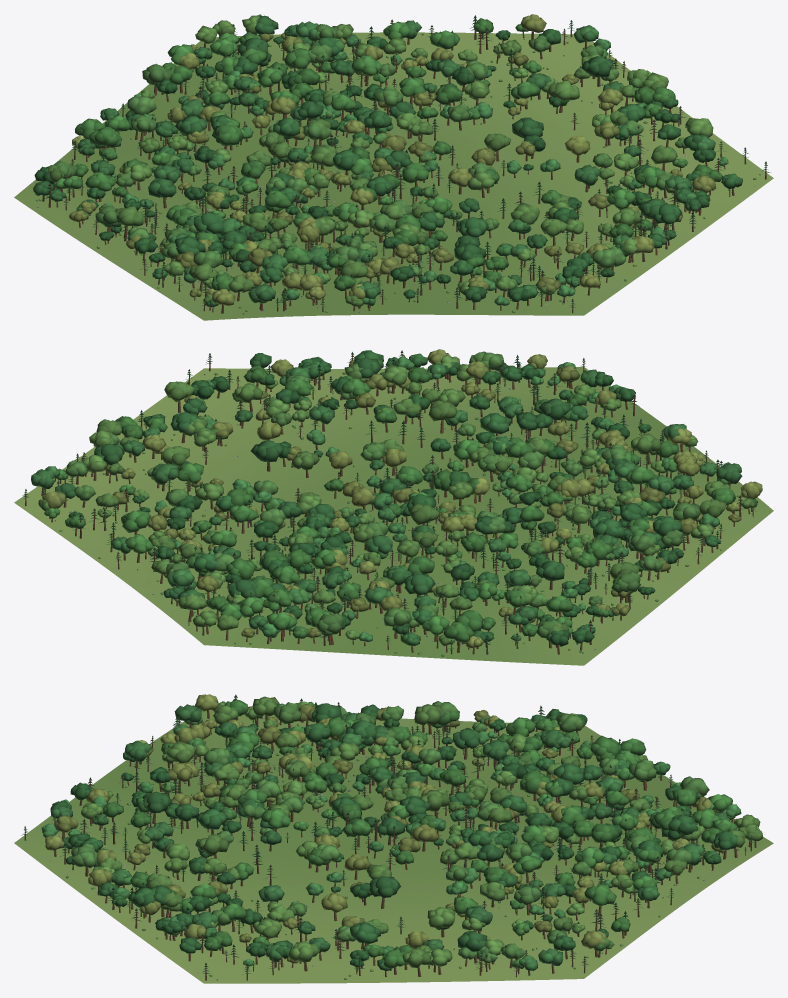
3 views of the same model, one above another, from view 1: azimuth 30°, elevation 25°; view 2: azimuth 150°, elevation 25°; view 3: azimuth 270°, elevation 25° (orthographic).
Parts seen in each view (by area): view 1: broadleaf_canopy, terrain, trunks, conifer_canopy, shrubs; view 2: broadleaf_canopy, terrain, trunks, conifer_canopy, shrubs; view 3: broadleaf_canopy, terrain, trunks, conifer_canopy.
Part boxes in pixels (<box>): broadleaf_canopy: <box>33,14,742,307</box>; terrain: <box>14,32,773,320</box>; trunks: <box>42,16,766,313</box>; conifer_canopy: <box>44,15,770,307</box>; shrubs: <box>36,33,760,314</box>; broadleaf_canopy: <box>31,349,762,647</box>; terrain: <box>14,366,773,665</box>; trunks: <box>25,352,753,654</box>; conifer_canopy: <box>22,350,756,648</box>; shrubs: <box>55,372,739,656</box>; broadleaf_canopy: <box>41,694,762,971</box>; terrain: <box>14,709,773,983</box>; trunks: <box>24,696,756,980</box>; conifer_canopy: <box>21,694,755,974</box>.
Size of the model in its own units: 4330 by 391 by 5000.
